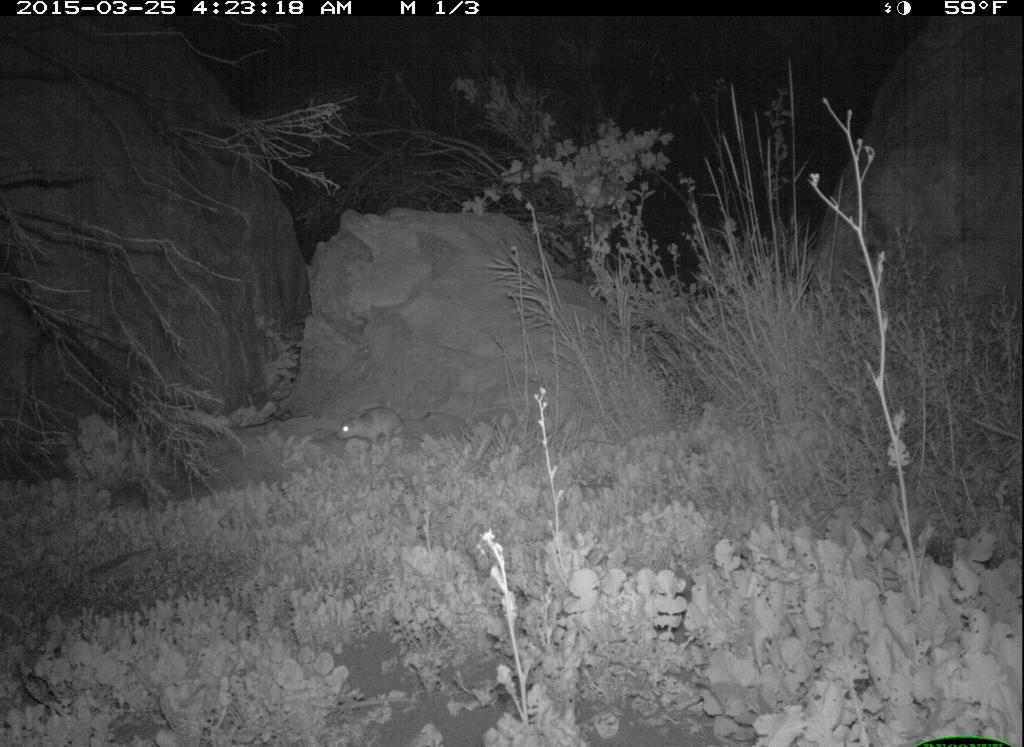rodent: (333, 405, 439, 454)
